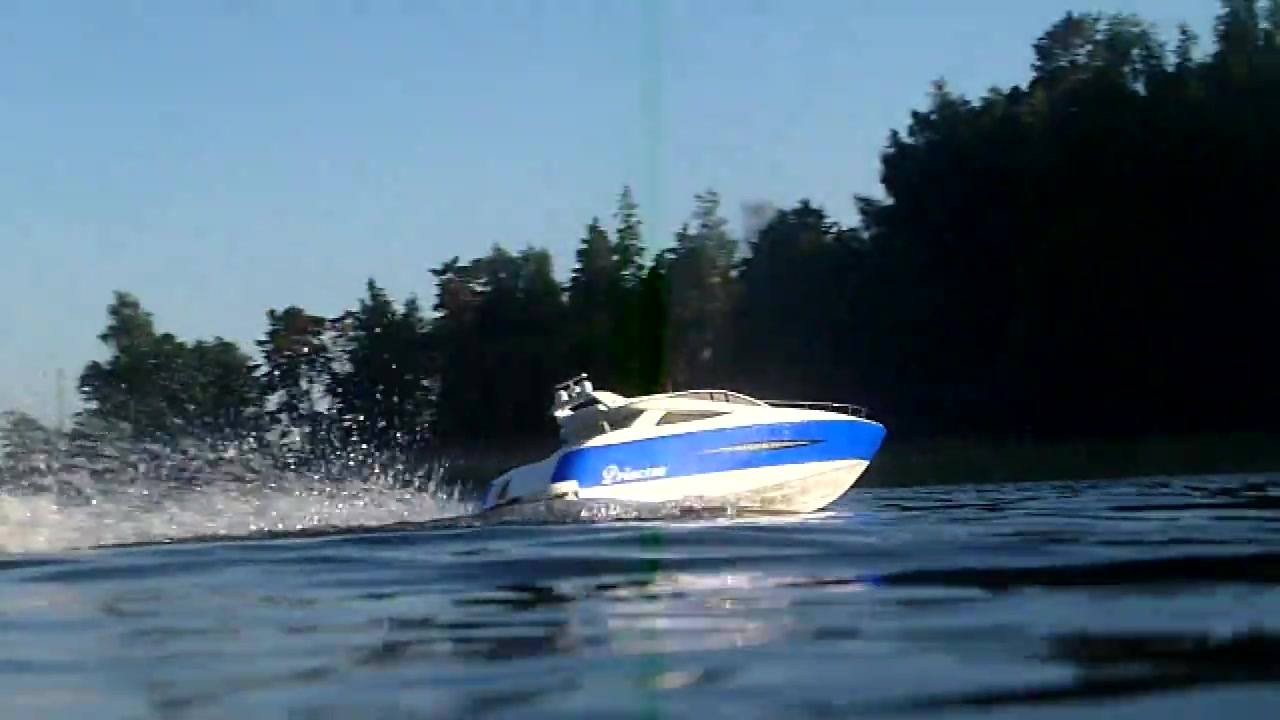boat: (464, 373, 891, 524)
